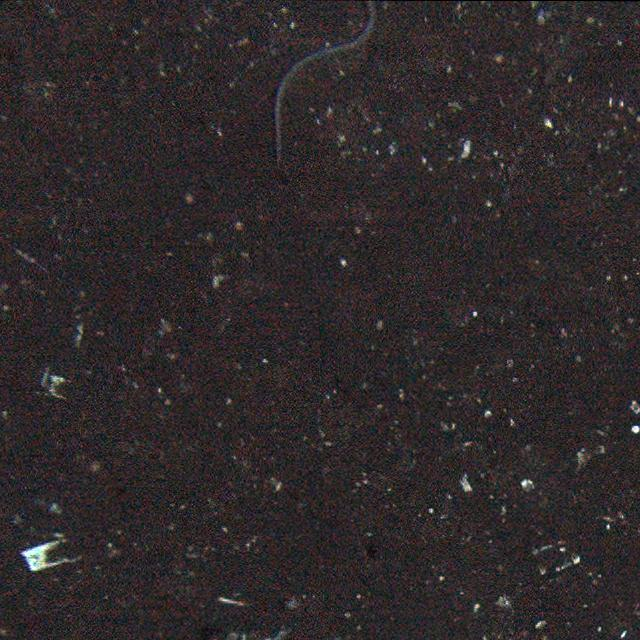eel: (272, 5, 388, 171)
